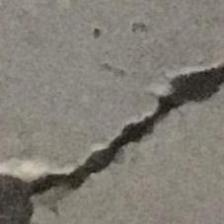Crack: (0, 12, 219, 224)
